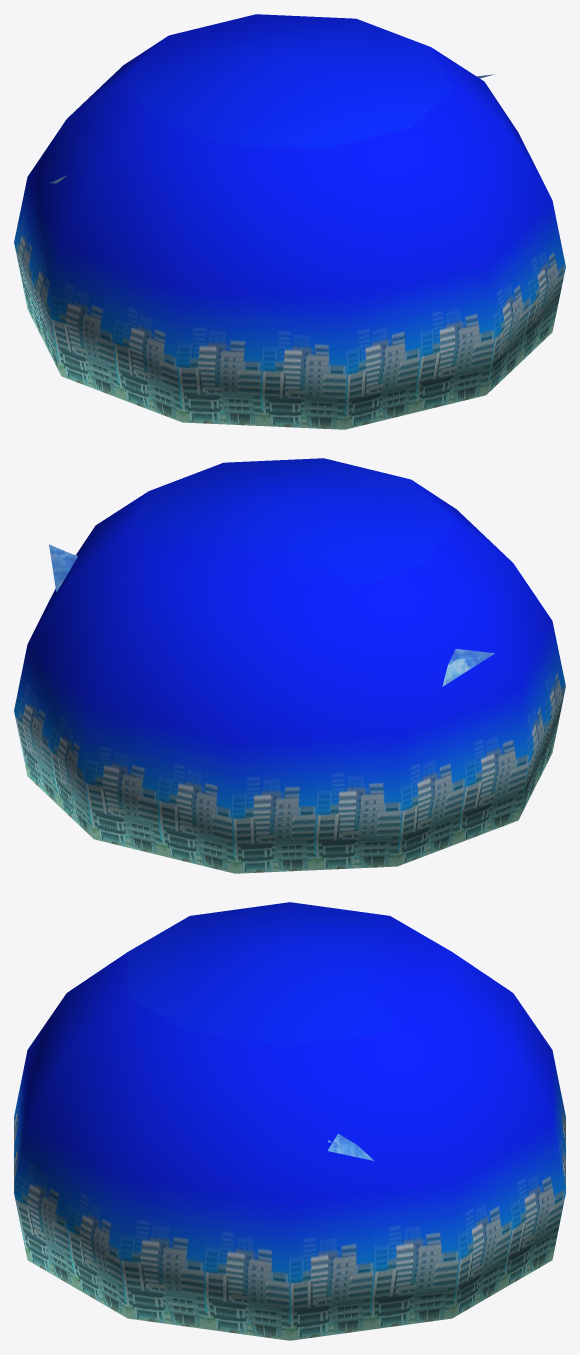
3 views of the same model, one above another, from view 1: azimuth 30°, elevation 25°; view 2: azimuth 150°, elevation 25°; view 3: azimuth 270°, elevation 25° (orthographic). The views are drawn at different scales.
Parts seen in each view (by area): view 1: vsn_mesh_40_sky; view 2: vsn_mesh_40_sky, vsn_mesh_49_pSphere4; view 3: vsn_mesh_40_sky, vsn_mesh_49_pSphere4.
Boxes of the visible parts, left/top/right/bottom form: vsn_mesh_40_sky: left=14, top=14, right=565, bottom=429; vsn_mesh_40_sky: left=14, top=458, right=565, bottom=873; vsn_mesh_49_pSphere4: left=49, top=544, right=494, bottom=686; vsn_mesh_40_sky: left=14, top=902, right=565, bottom=1340; vsn_mesh_49_pSphere4: left=327, top=1133, right=374, bottom=1160.
Size of the model in its own units: 3480 by 1820 by 3310.
45 materials, 44 textured.
